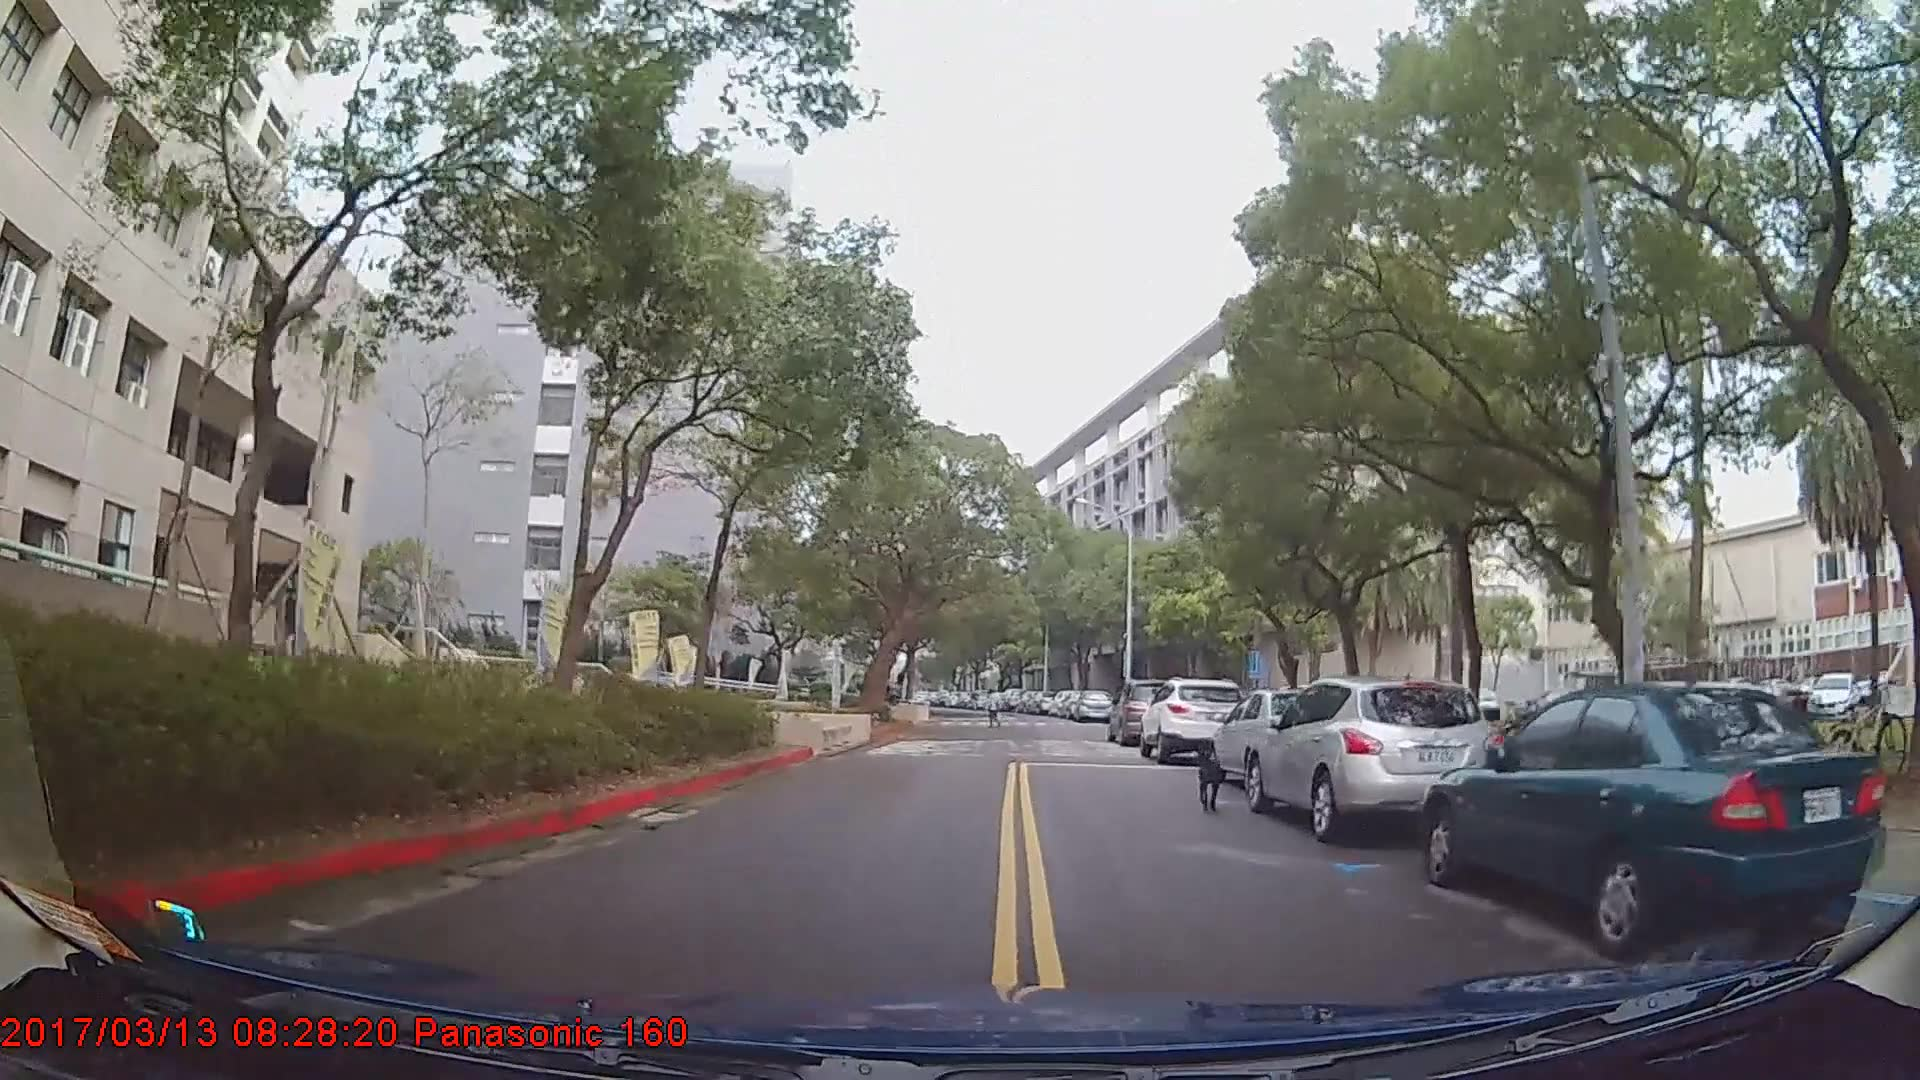pedestrian: (986, 688, 1006, 728)
vehicle: (1425, 681, 1886, 951), (1250, 671, 1508, 838), (1208, 684, 1351, 793), (1140, 674, 1251, 761), (1107, 676, 1191, 744), (1072, 687, 1114, 720)
